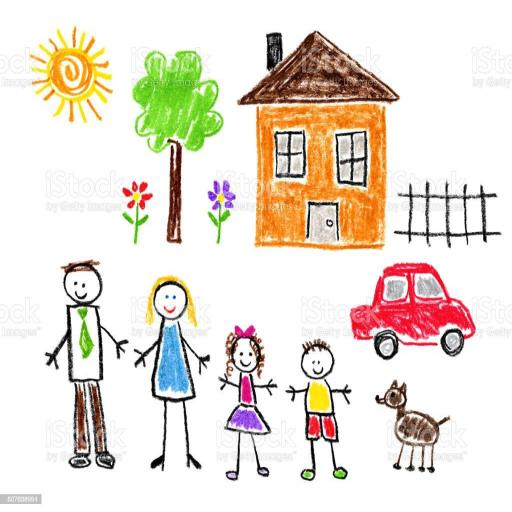person: (36, 260, 130, 470), (132, 272, 210, 472), (214, 322, 277, 479), (285, 338, 353, 483)
